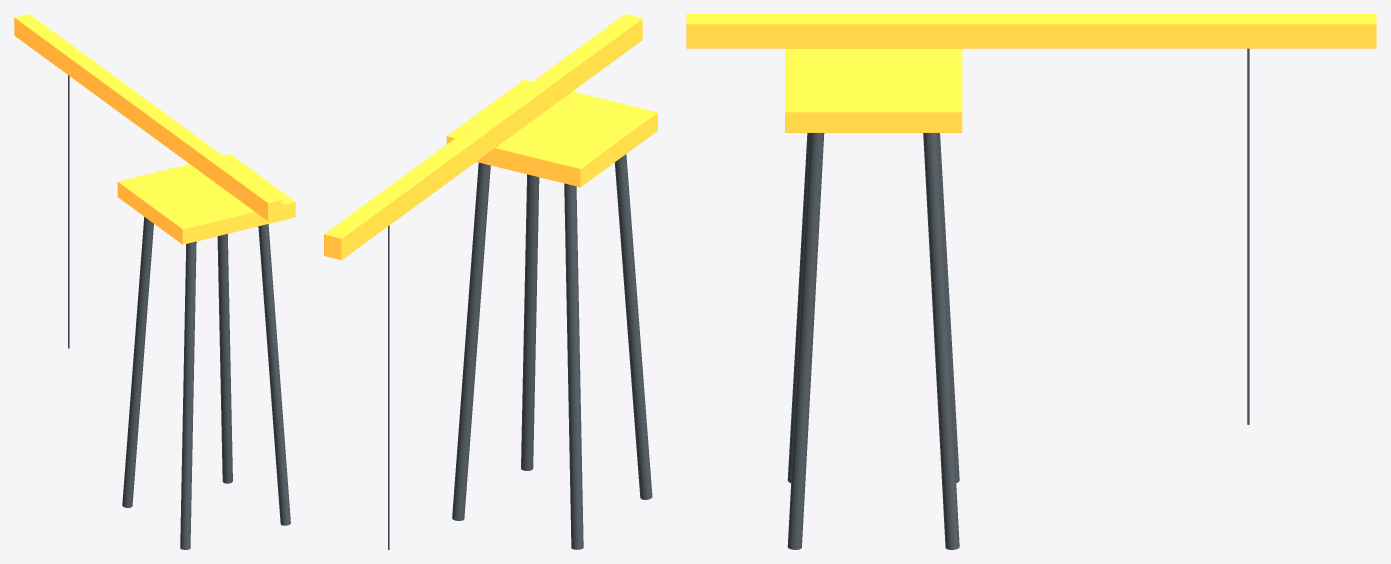
Rendered from PortCrane.fbx.
The picture shows the model from 3 angles, left to right: view 1: azimuth 30°, elevation 25°; view 2: azimuth 150°, elevation 25°; view 3: azimuth 270°, elevation 25°; orthographic projection. The views are drawn at different scales.
Visible parts, largest first — view 1: Body.047; view 2: Body.047; view 3: Body.047.
Part boxes in pixels (<box>): Body.047: <box>14,14,295,549</box>; Body.047: <box>324,14,657,549</box>; Body.047: <box>686,14,1376,549</box>.
Size of the model in its own units: 9 by 27.73 by 35.
